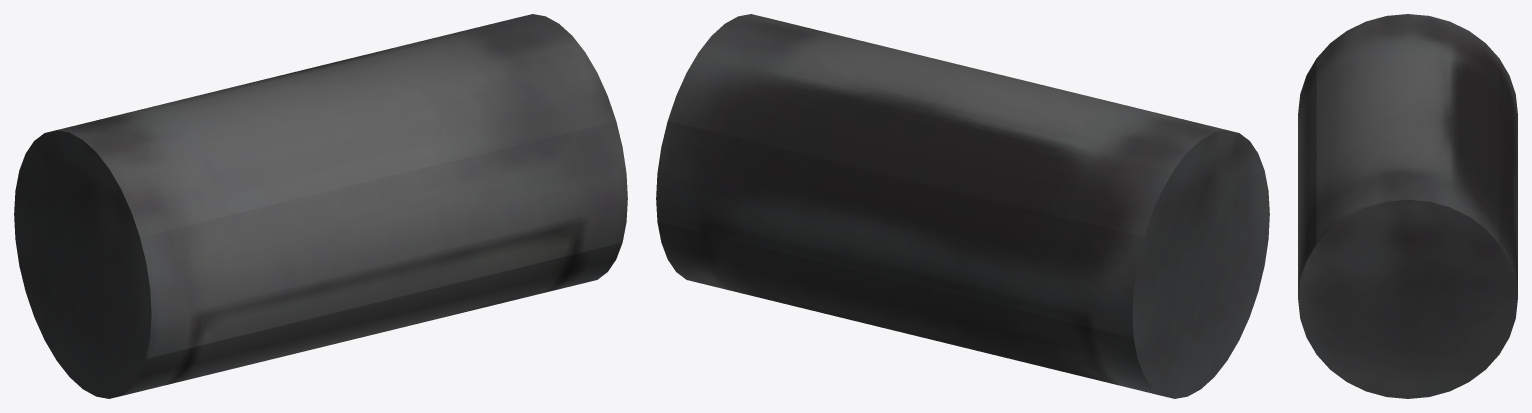
File: panel__tilt_barrel.glb
3 renders of one model, left to right at view 1: azimuth 30°, elevation 25°; view 2: azimuth 150°, elevation 25°; view 3: azimuth 270°, elevation 25°, orthographic. The views are drawn at different scales.
Parts seen in each view (by area): view 1: world; view 2: world; view 3: world.
Boxes of the visible parts, bbox=[...] form: world: bbox=[14, 14, 627, 398]; world: bbox=[656, 14, 1269, 398]; world: bbox=[1298, 14, 1517, 398].
Bounding box in the file's own units: 0.028 × 0.014 × 0.014.
Materials: 1 (1 with a texture image).
